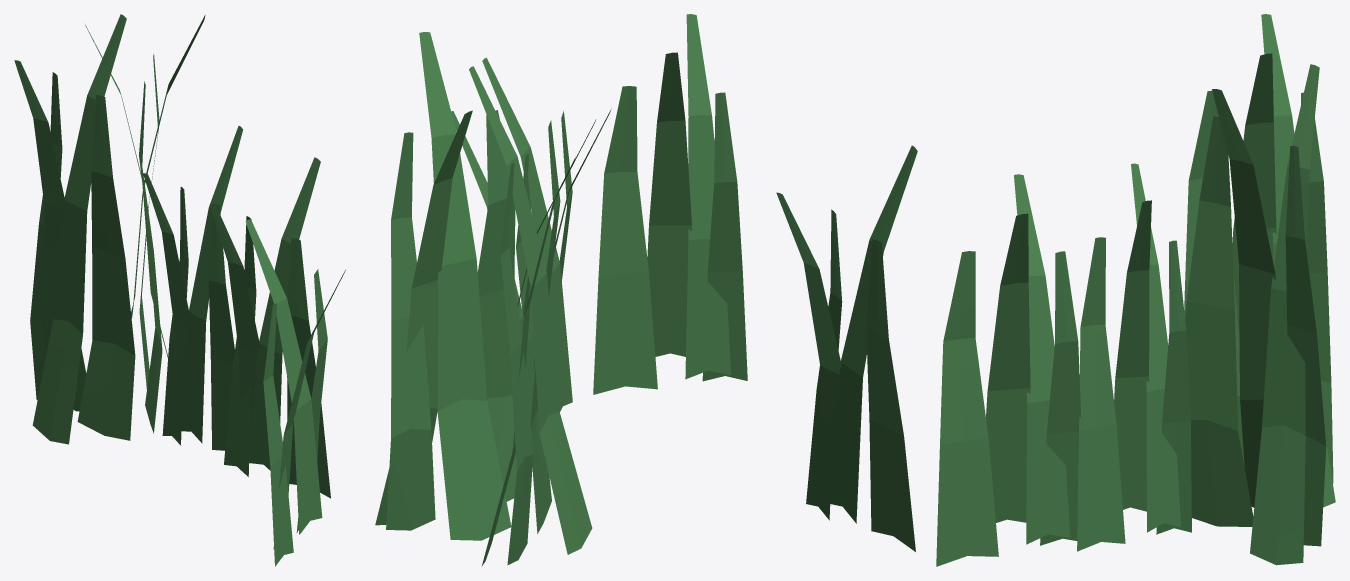
The model's file is grass_1.glb.
3 views of the same model, side by side, from view 1: azimuth 30°, elevation 25°; view 2: azimuth 150°, elevation 25°; view 3: azimuth 270°, elevation 25° (orthographic). The views are drawn at different scales.
Parts seen in each view (by area): view 1: Plane.014_Material.005_0; view 2: Plane.014_Material.005_0; view 3: Plane.014_Material.005_0.
Boxes of the visible parts, box(x1,y1,x2,y2) form: Plane.014_Material.005_0: box(14, 14, 345, 566); Plane.014_Material.005_0: box(375, 14, 747, 566); Plane.014_Material.005_0: box(776, 14, 1335, 566).
Size of the model in its own units: 0.2976 by 0.572 by 0.6079.
